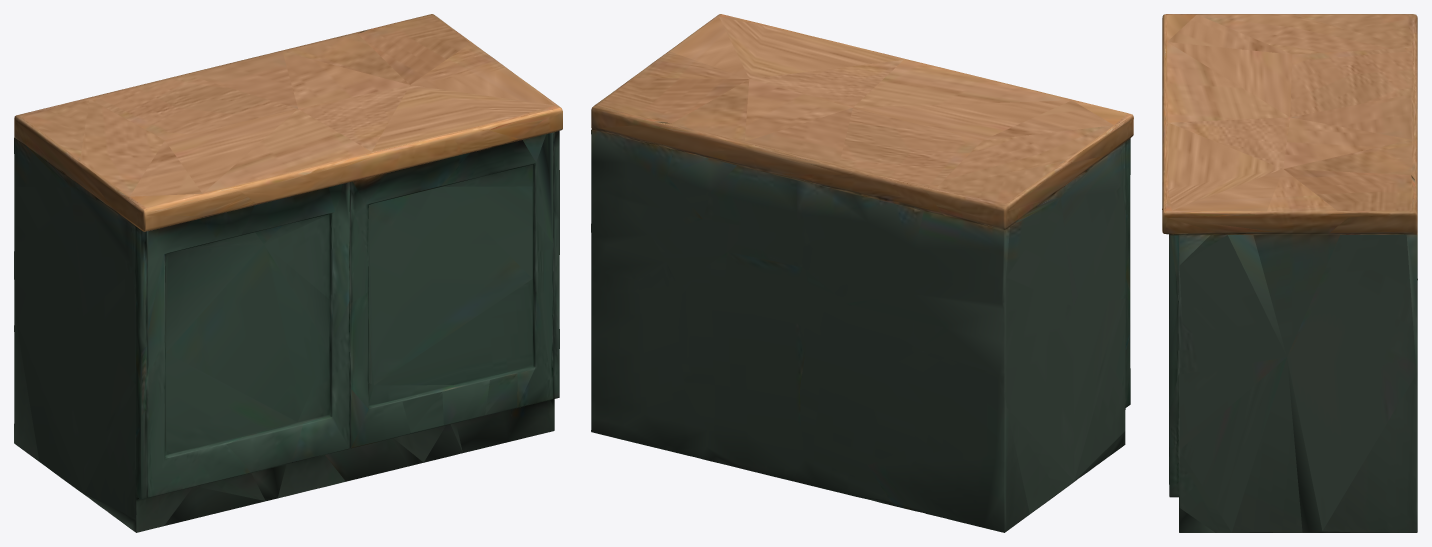
The model's file is cafe-counter-straight.glb.
3 renders of one model, left to right at view 1: azimuth 30°, elevation 25°; view 2: azimuth 150°, elevation 25°; view 3: azimuth 270°, elevation 25°, orthographic. The views are drawn at different scales.
Parts seen in each view (by area): view 1: tripo_node_f271c655-d070-4971-b9d9-7197db166c41; view 2: tripo_node_f271c655-d070-4971-b9d9-7197db166c41; view 3: tripo_node_f271c655-d070-4971-b9d9-7197db166c41.
Part boxes in pixels (x1,y1,x2,y2): tripo_node_f271c655-d070-4971-b9d9-7197db166c41: (14, 14, 562, 532); tripo_node_f271c655-d070-4971-b9d9-7197db166c41: (591, 14, 1133, 532); tripo_node_f271c655-d070-4971-b9d9-7197db166c41: (1162, 14, 1417, 532).
Size of the model in its own units: 1.2 by 0.9 by 0.6499.
Materials: 1 (1 with a texture image).
